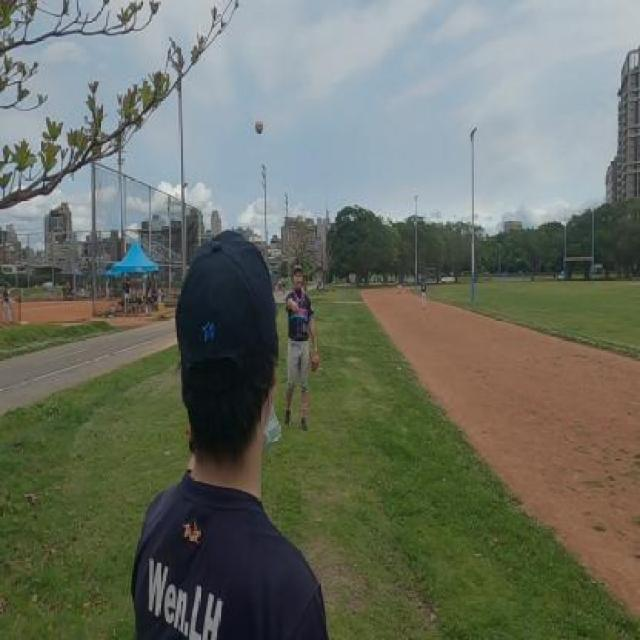baseball: (255, 119, 263, 135)
